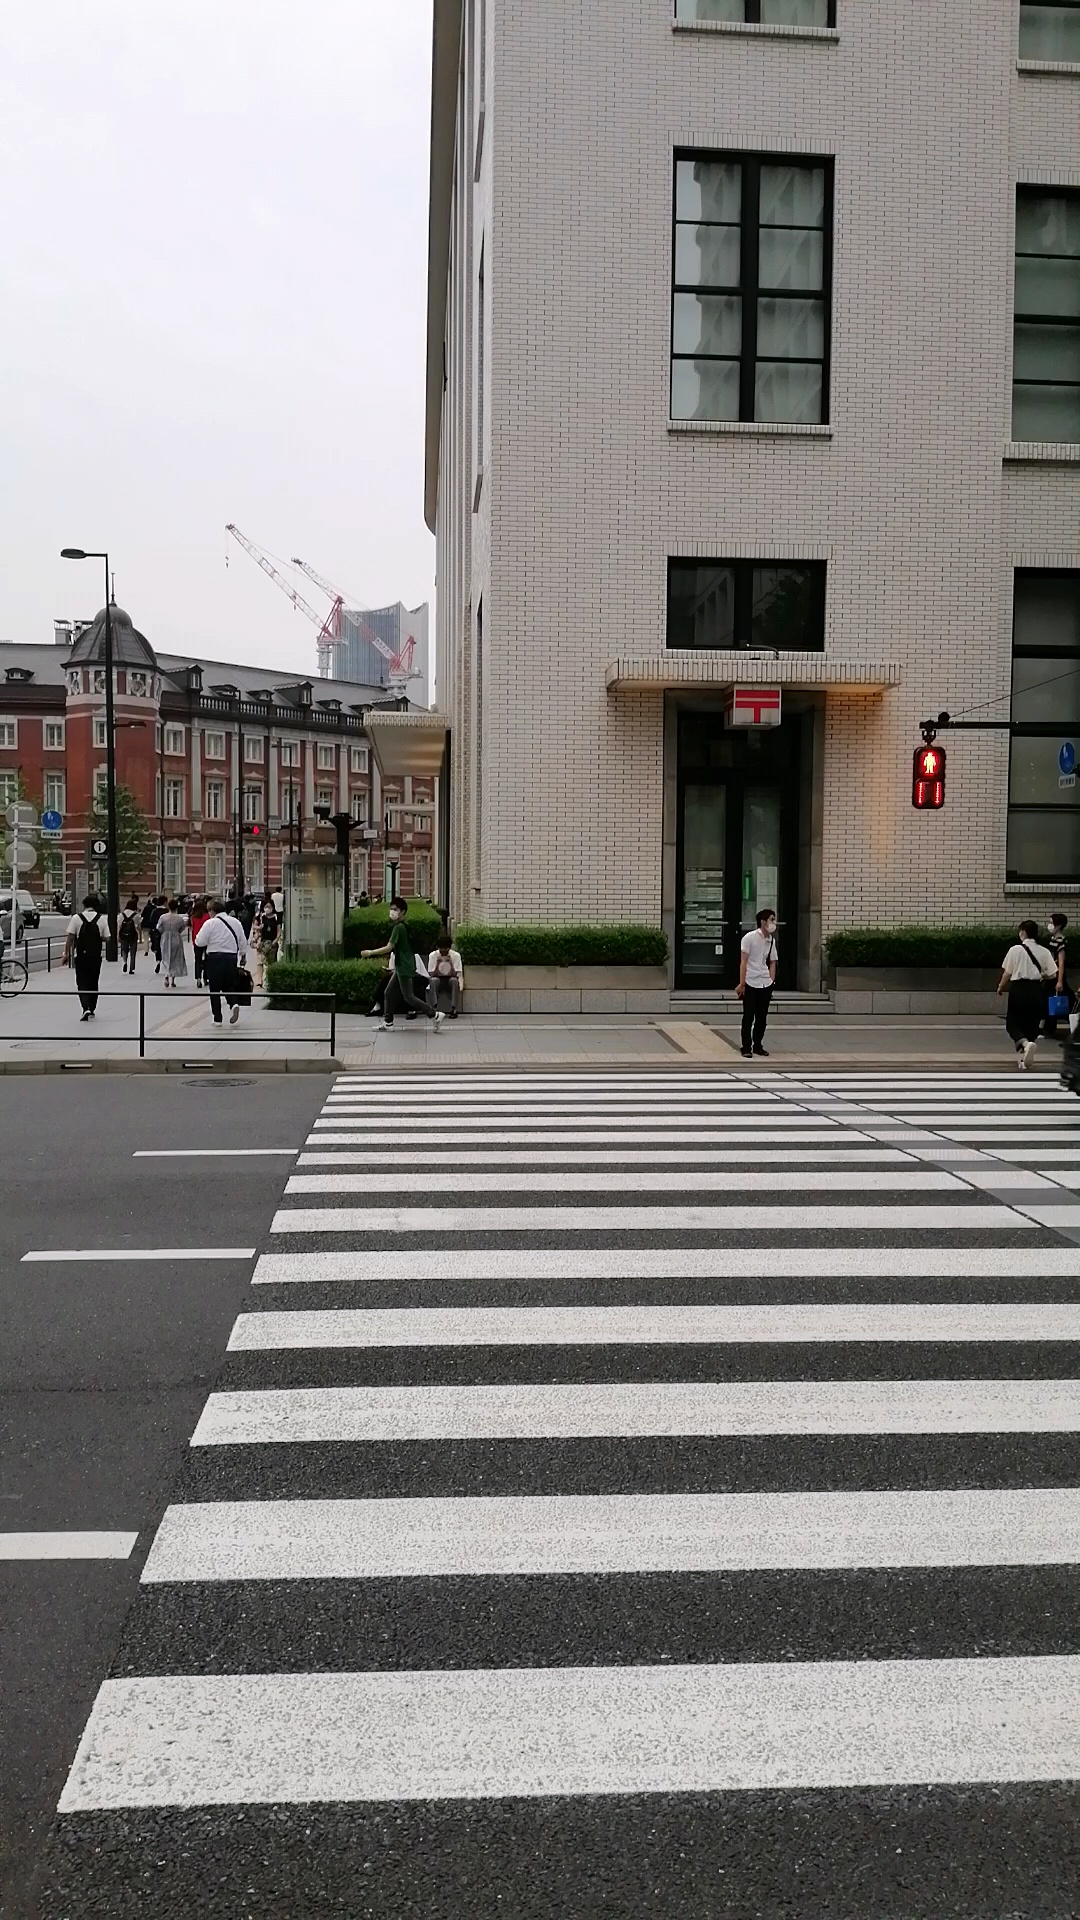red: (913, 745, 945, 808)
